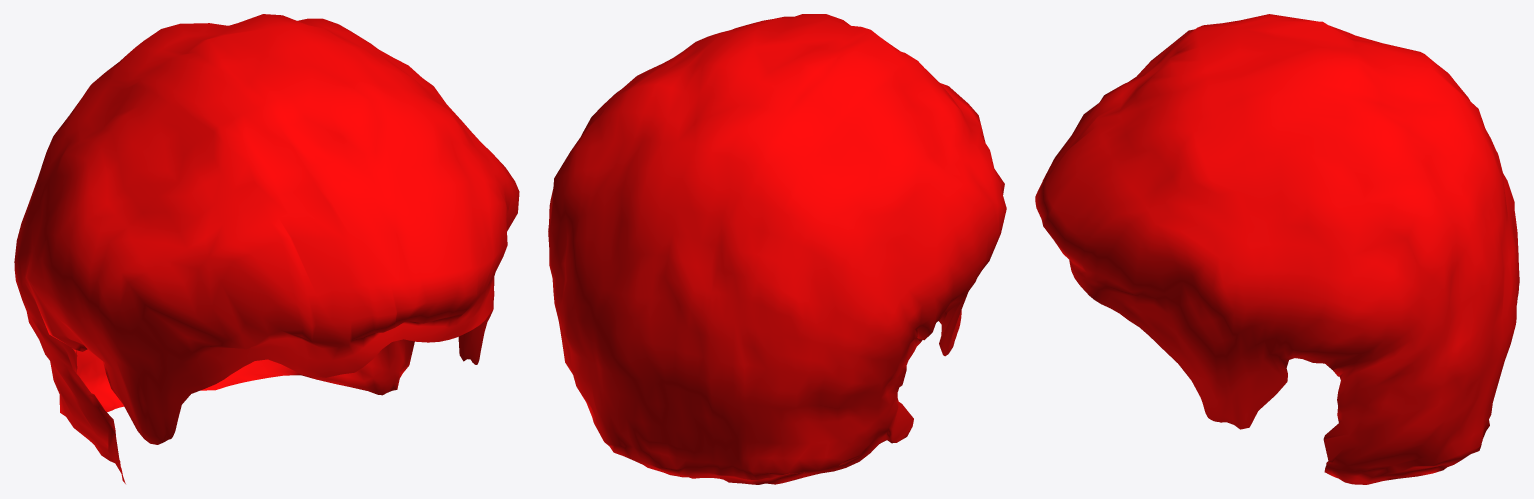
File: short02_F.glb
The picture shows the model from 3 angles, left to right: view 1: azimuth 30°, elevation 25°; view 2: azimuth 150°, elevation 25°; view 3: azimuth 270°, elevation 25°; orthographic projection. The views are drawn at different scales.
Size of the model in its own units: 0.1964 by 0.1845 by 0.2071.
1 material, 1 textured.
